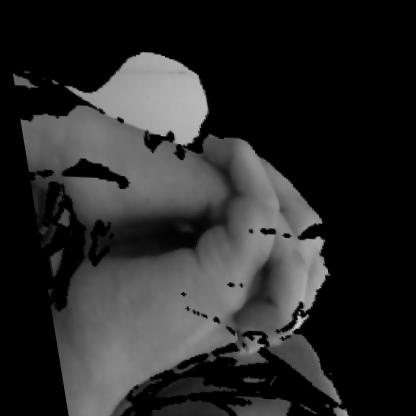prayer: (19, 62, 367, 398)
